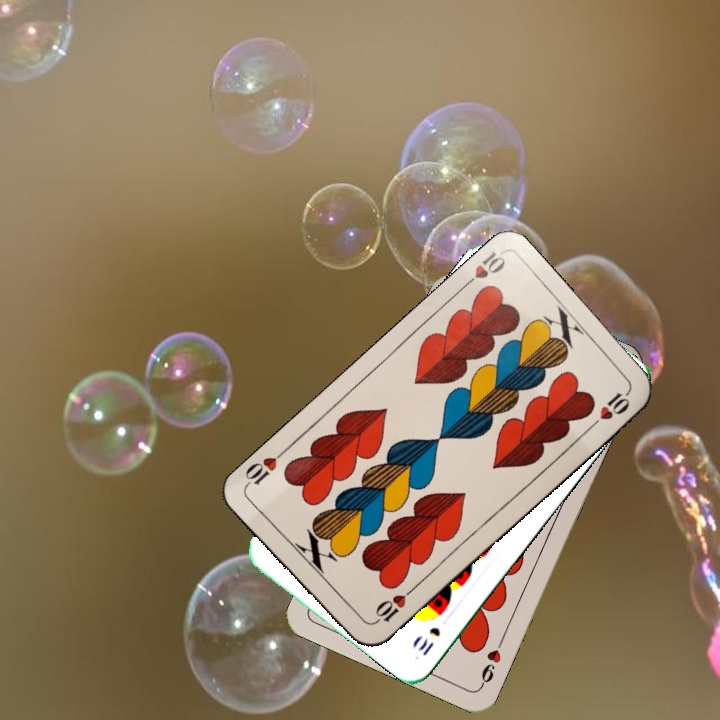H10: (457, 247, 509, 293), (368, 584, 417, 627)
H9: (476, 633, 507, 689)
S10: (414, 623, 443, 659)
